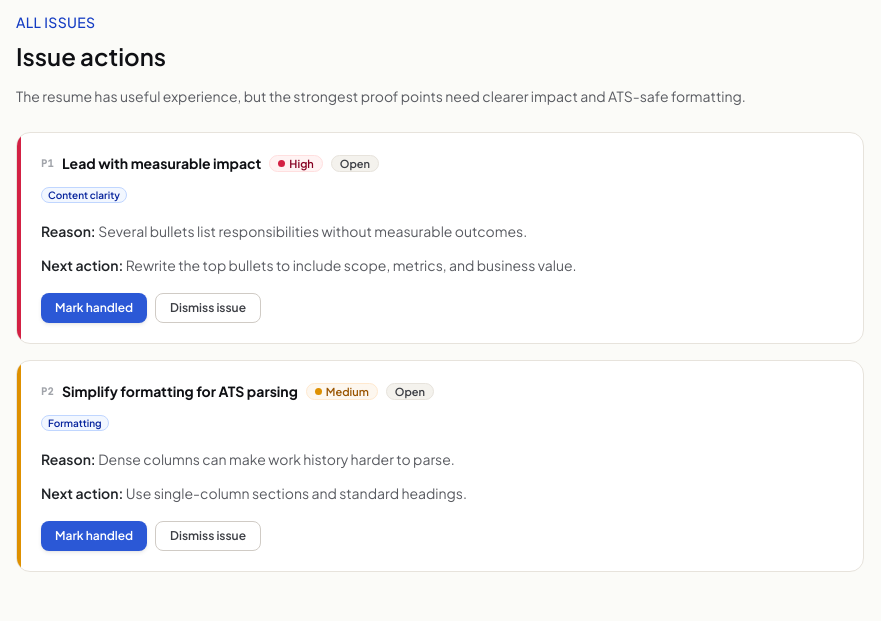
Test case: SuggestionsSection › shows accessible failure feedback when an async status update fails
Step 1. Click the button "Dismiss issue" below "Simplify formatting for ATS parsing" → (208, 536), box [155,521,261,551]
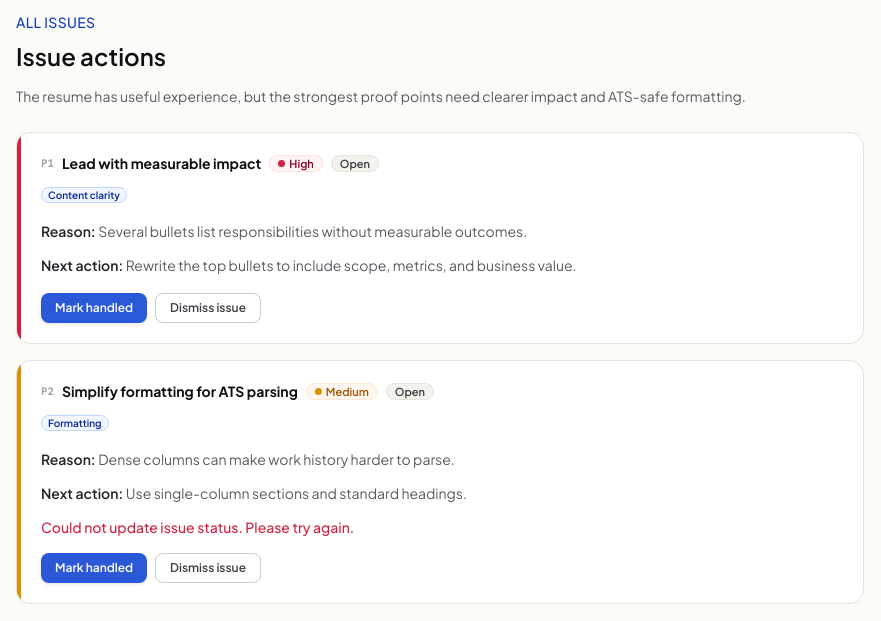
Check: the text with test id "issue-status" reads "Open", box [395,384,425,398]
Check: the message shows "Could not update issue status", box [41,518,354,536]
